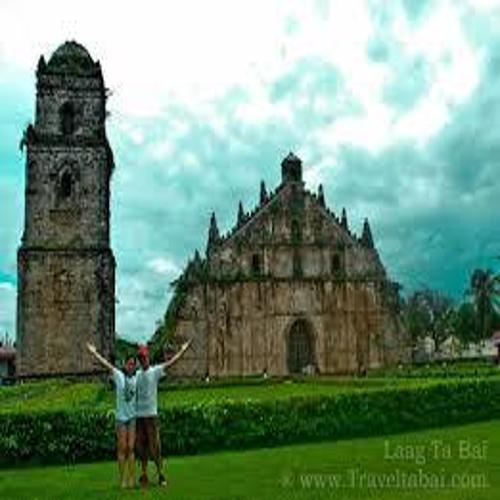Paoay Church: (14, 36, 423, 384)
